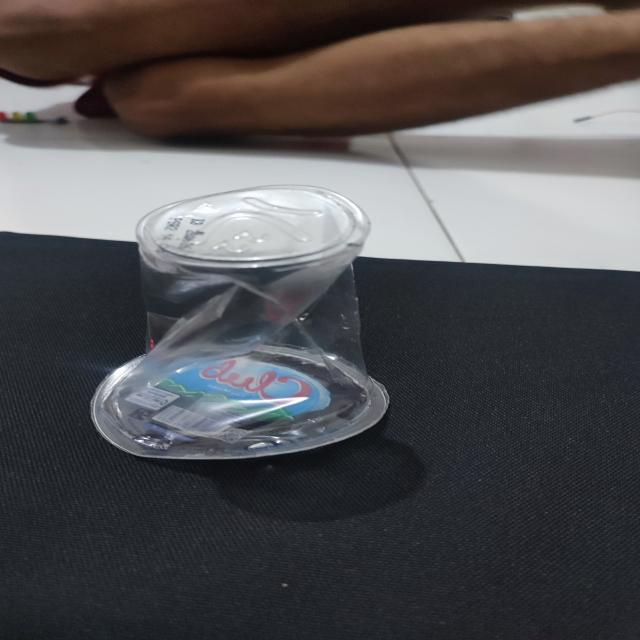air-gelas-rusak: (87, 180, 408, 465)
